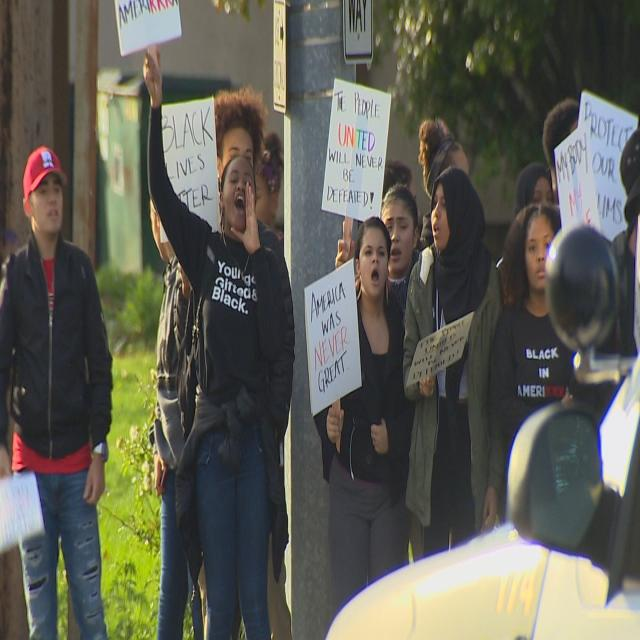body: (135, 42, 285, 639), (174, 89, 296, 639), (0, 142, 118, 640), (310, 215, 417, 621), (402, 162, 502, 565), (333, 181, 429, 563), (148, 194, 208, 640), (488, 201, 580, 445), (601, 120, 639, 588), (512, 95, 584, 210), (383, 116, 472, 199), (253, 130, 285, 252), (418, 198, 434, 250)
